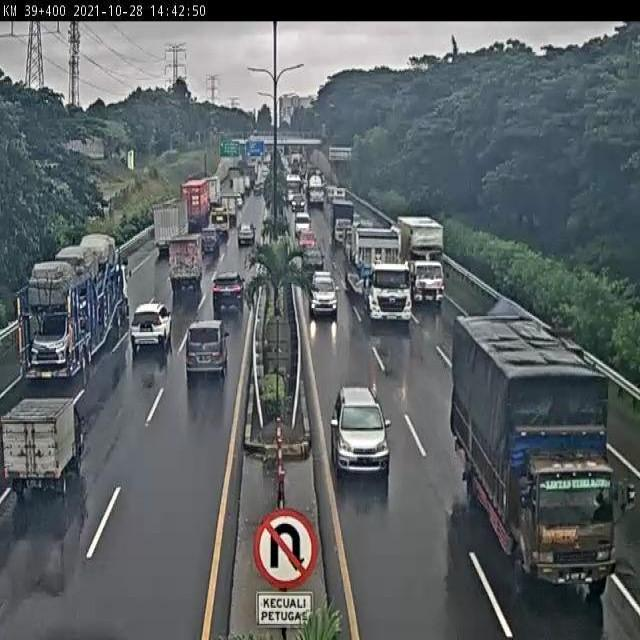car: (331, 388, 391, 472), (186, 323, 231, 369), (131, 304, 171, 349), (310, 275, 342, 321), (214, 268, 246, 305), (304, 244, 325, 275), (237, 223, 256, 247), (202, 225, 218, 251)
truck: (451, 312, 617, 592), (18, 231, 131, 376), (2, 396, 80, 487), (350, 223, 417, 325), (400, 215, 447, 305), (170, 230, 206, 290), (151, 200, 192, 249), (209, 207, 228, 229)
